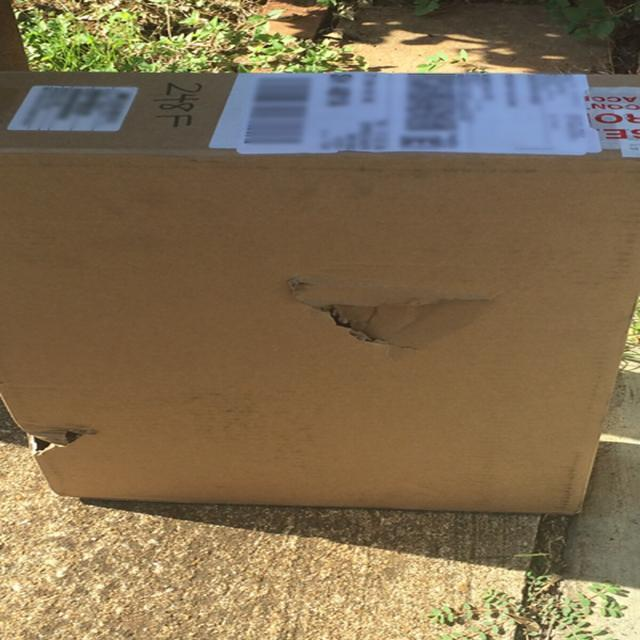damaged: (286, 272, 508, 374), (19, 409, 104, 469)
